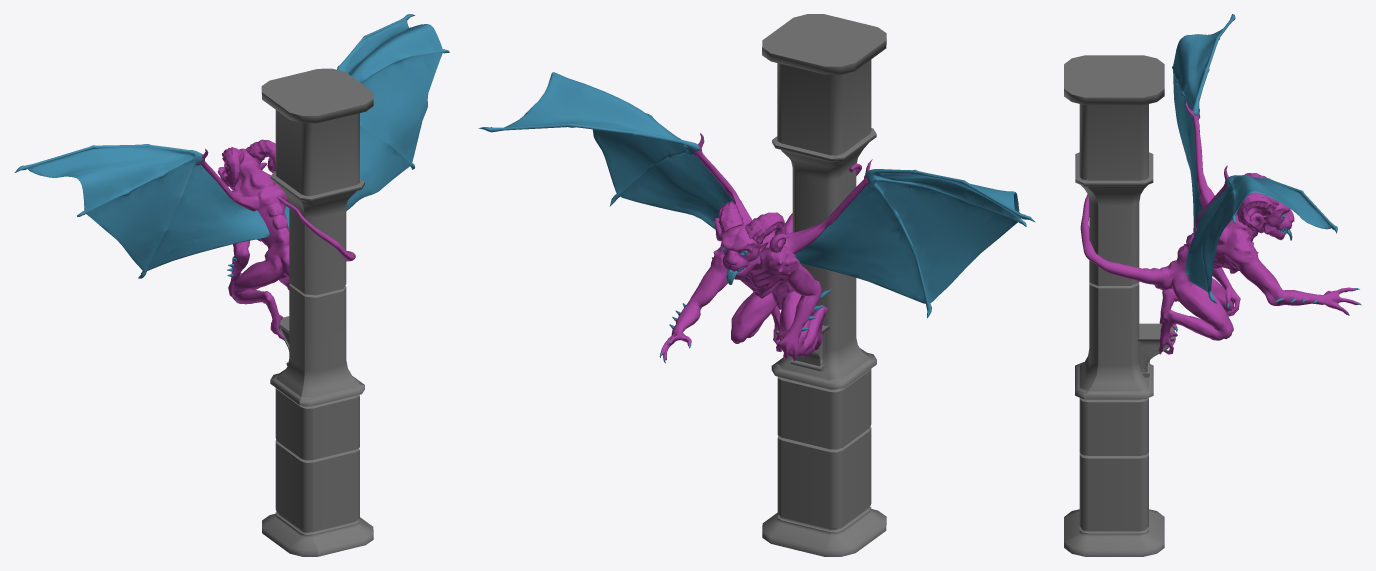
The model's file is uploads_files_736881_Gargoyle.fbx.
3 renders of one model, left to right at view 1: azimuth 30°, elevation 25°; view 2: azimuth 150°, elevation 25°; view 3: azimuth 270°, elevation 25°, orthographic. The views are drawn at different scales.
Parts seen in each view (by area): view 1: pillar, wings, skin; view 2: pillar, wings, skin; view 3: pillar, skin, wings.
Part boxes in pixels (x1,y1,x2,y2): pillar: (261,68,373,556); wings: (14,14,449,340); skin: (196,139,355,338); pillar: (762,14,886,556); wings: (478,72,1035,363); skin: (661,133,872,360); pillar: (1064,55,1174,556); skin: (1080,101,1358,354); wings: (1159,14,1361,354).
Size of the model in its own units: 6.75 by 6.29 by 3.7.
